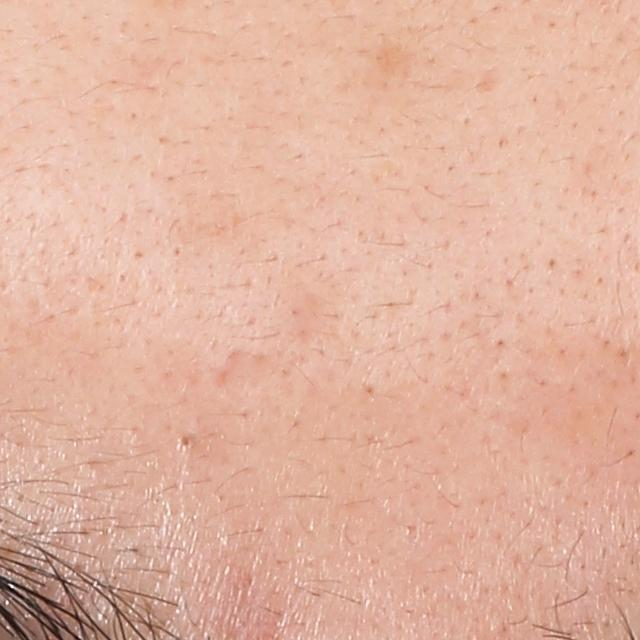atrophic_scar: (212, 343, 280, 399)
comedo: (173, 429, 197, 453)
